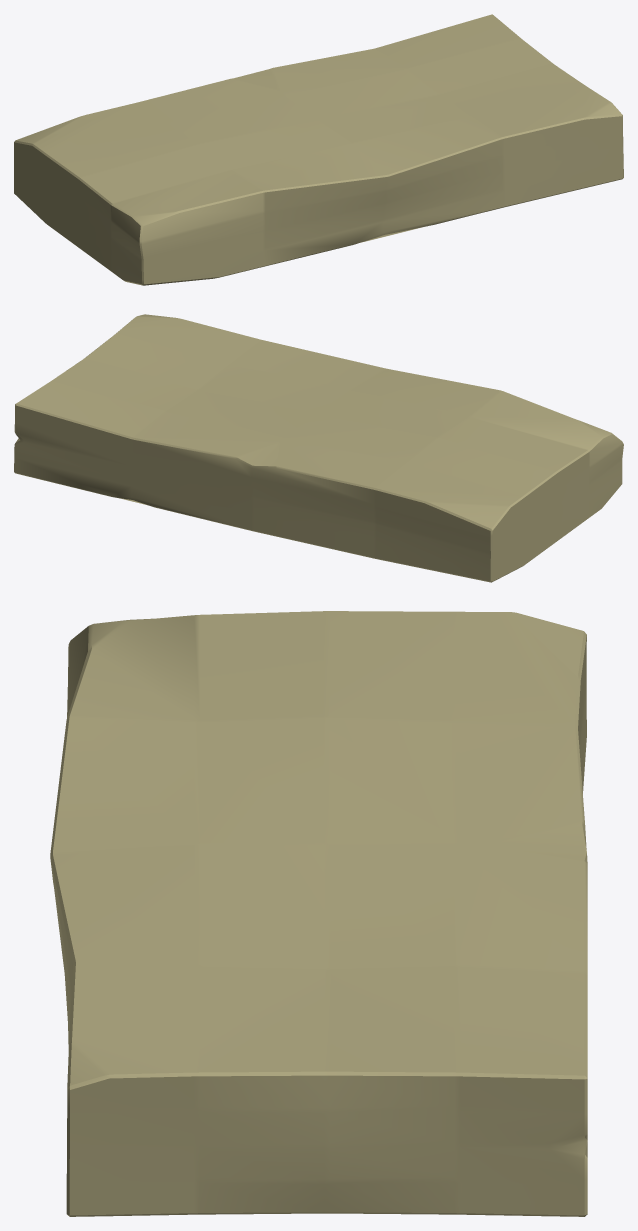
The model's file is slab.fbx.
3 views of the same model, one above another, from view 1: azimuth 30°, elevation 25°; view 2: azimuth 150°, elevation 25°; view 3: azimuth 270°, elevation 25° (orthographic). The views are drawn at different scales.
Parts seen in each view (by area): view 1: Plate; view 2: Plate; view 3: Plate.
Part boxes in pixels (<box>): Plate: <box>14,14,623,285</box>; Plate: <box>14,314,623,582</box>; Plate: <box>50,611,587,1216</box>.
Bounding box in the file's own units: 371 × 57.38 × 179.
